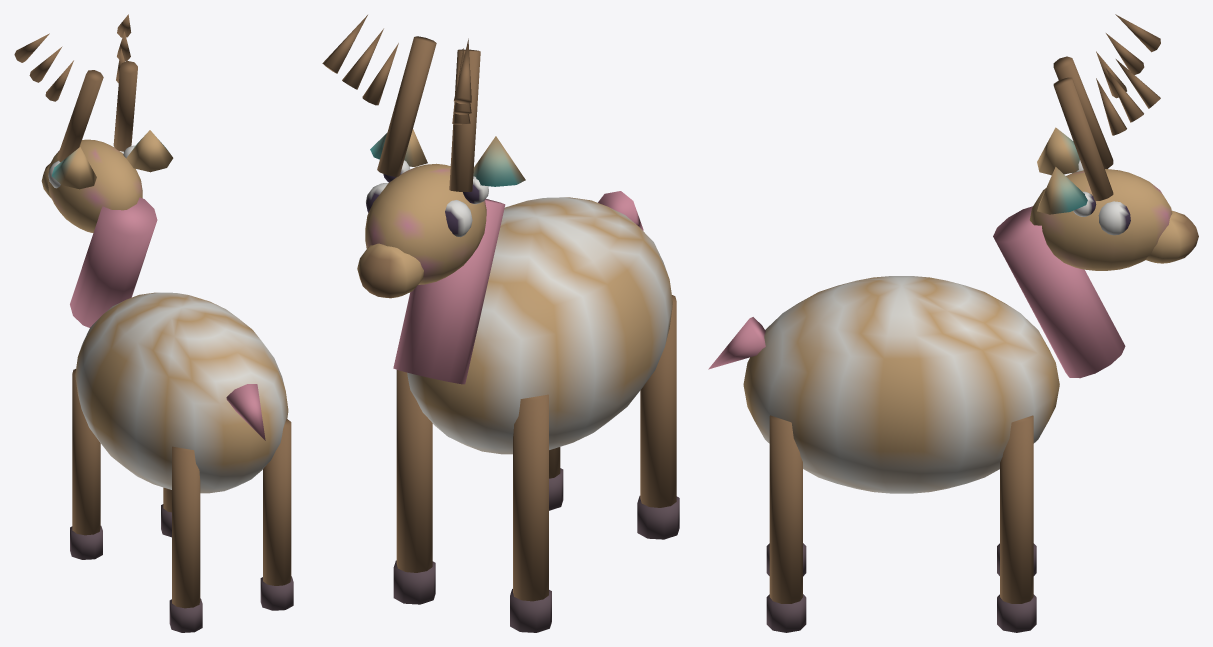
Rendered from alebrije_deer.glb.
3 renders of one model, left to right at view 1: azimuth 30°, elevation 25°; view 2: azimuth 150°, elevation 25°; view 3: azimuth 270°, elevation 25°, orthographic. The views are drawn at different scales.
Visible parts, largest first — view 1: DeerBody, DeerNeck, DeerHead, DeerLeg_2, DeerLeg_3, DeerLeg_0, DeerAntlerBeam_L, DeerAntlerBeam_R, DeerEar_R, DeerEar_L, DeerTail, DeerHoof_2 (+2 smaller); view 2: DeerBody, DeerNeck, DeerHead, DeerLeg_0, DeerLeg_1, DeerLeg_2, DeerAntlerBeam_R, DeerSnout, DeerAntlerBeam_L, DeerEar_L, DeerHoof_1, DeerHoof_2 (+9 smaller); view 3: DeerBody, DeerNeck, DeerHead, DeerLeg_3, DeerLeg_1, DeerAntlerBeam_R, DeerSnout, DeerEar_R, DeerAntlerBeam_L, DeerEar_L, DeerTail, DeerHoof_3 (+2 smaller).
Boxes of the visible parts, x1,y1,x2,y2 form: DeerBody: (75,292,288,493); DeerNeck: (70,197,157,327); DeerHead: (48,139,142,232); DeerLeg_2: (172,446,200,608); DeerLeg_3: (263,419,291,585); DeerLeg_0: (72,369,100,535); DeerAntlerBeam_L: (57,70,103,162); DeerAntlerBeam_R: (113,61,137,151); DeerEar_R: (126,130,173,172); DeerEar_L: (51,147,96,189); DeerTail: (226,384,265,440); DeerHoof_2: (169,598,202,632); DeerBody: (407,197,672,454); DeerNeck: (393,199,505,384); DeerHead: (365,163,486,284); DeerLeg_0: (513,394,548,601); DeerLeg_1: (396,370,432,572); DeerLeg_2: (640,295,676,507); DeerAntlerBeam_R: (377,36,436,176); DeerSnout: (357,243,423,298); DeerAntlerBeam_L: (449,49,480,191); DeerEar_L: (473,136,525,186); DeerHoof_1: (393,560,435,604); DeerHoof_2: (637,496,679,539); DeerBody: (743,276,1059,493); DeerNeck: (993,206,1125,378); DeerHead: (1029,169,1172,270); DeerLeg_3: (769,415,802,603); DeerLeg_1: (1000,415,1033,603); DeerAntlerBeam_R: (1053,77,1113,200); DeerSnout: (1146,210,1198,263); DeerEar_R: (1037,167,1087,214); DeerAntlerBeam_L: (1053,56,1113,168); DeerEar_L: (1037,127,1079,175); DeerTail: (708,317,765,369); DeerHoof_3: (766,594,806,632).
Bounding box in the file's own units: 0.7127 × 2.05 × 1.62.
